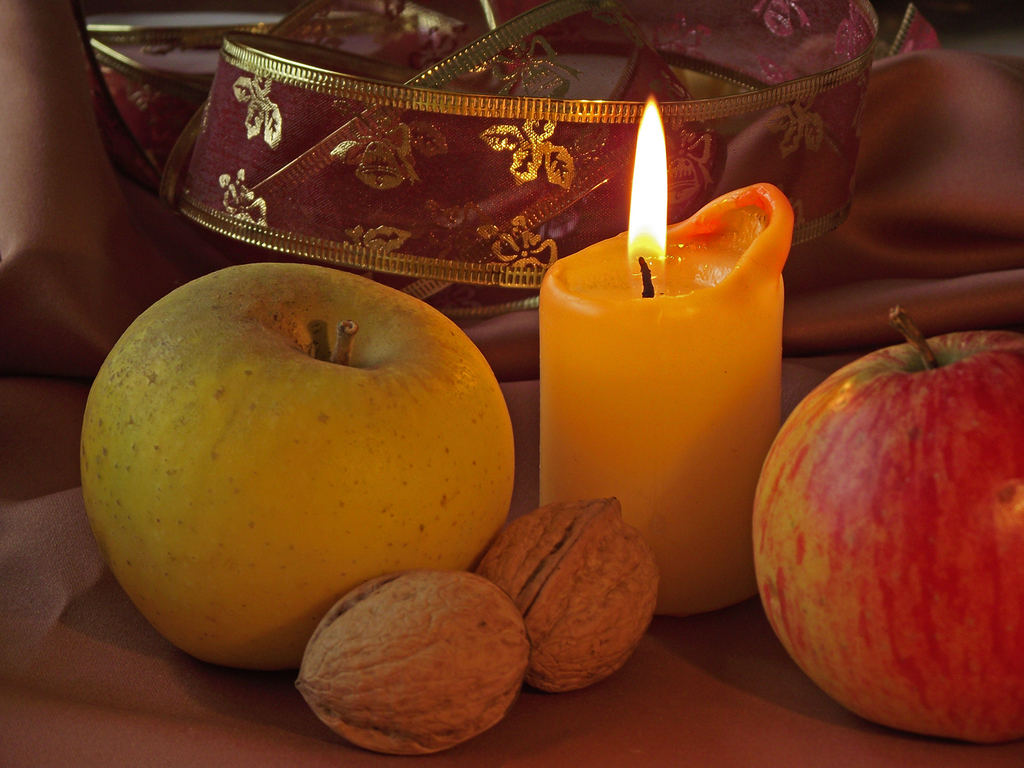Apple: (79, 272, 511, 677), (749, 305, 1023, 745)
